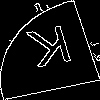K: (25, 25, 78, 77)
